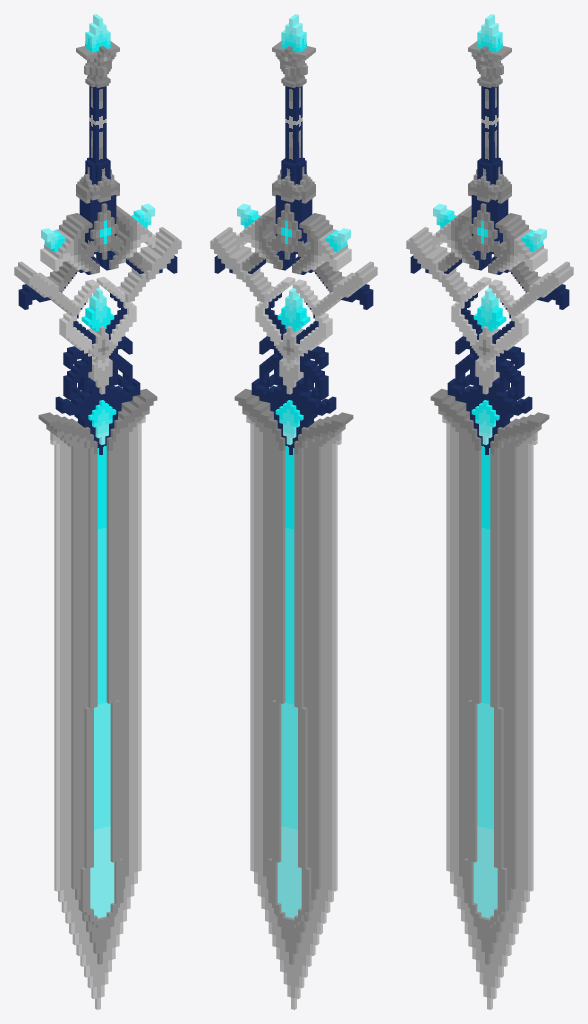
File: 孤空长剑.gltf
3 renders of one model, left to right at view 1: azimuth 30°, elevation 25°; view 2: azimuth 150°, elevation 25°; view 3: azimuth 330°, elevation 25°, orthographic.
Parts seen in each view (by area): view 1: Object; view 2: Object; view 3: Object.
Boxes of the visible parts, bbox=[...] form: Object: bbox=[14, 14, 181, 1009]; Object: bbox=[210, 14, 377, 1009]; Object: bbox=[406, 14, 573, 1009].
Bounding box in the file's own units: 41 × 255 × 7.
1 material, 1 textured.
